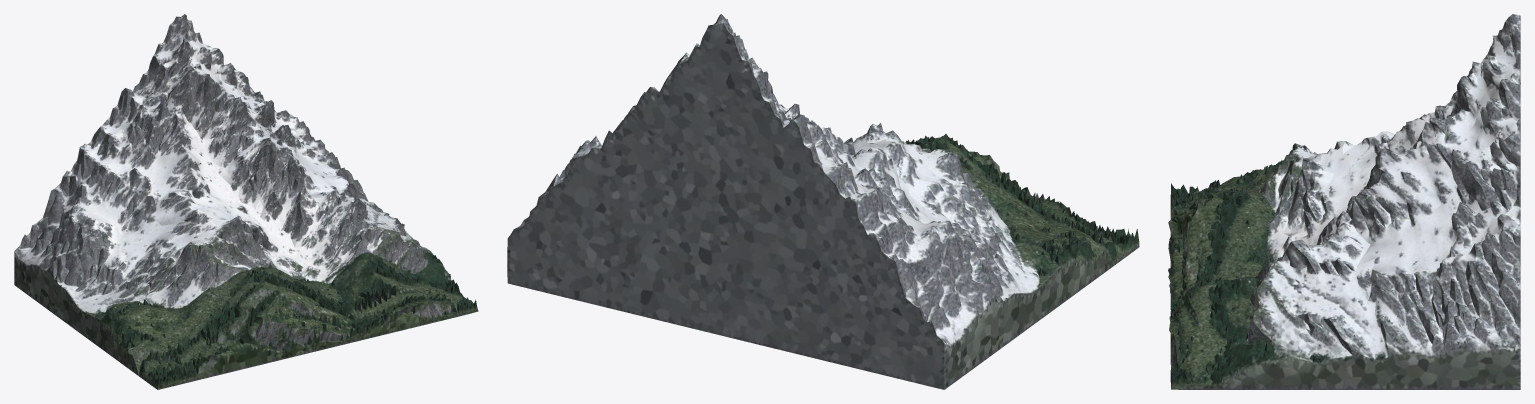
File: peak_lite.glb
3 renders of one model, left to right at view 1: azimuth 30°, elevation 25°; view 2: azimuth 150°, elevation 25°; view 3: azimuth 270°, elevation 25°, orthographic. The views are drawn at different scales.
Visible parts, largest first — view 1: geometry_0; view 2: geometry_0; view 3: geometry_0.
Boxes of the visible parts, <box> form: geometry_0: <box>14,14,478,389</box>; geometry_0: <box>507,14,1139,389</box>; geometry_0: <box>1168,14,1520,389</box>.
Bounding box in the file's own units: 1.9 × 1.32 × 1.49.
1 material, 1 textured.
